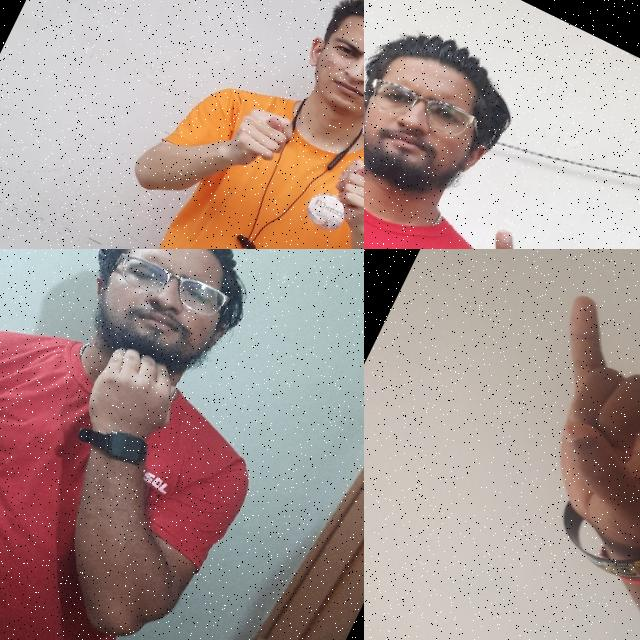Chin Flick: (27, 249, 272, 478)
Corna: (460, 249, 640, 611)
Dulya: (206, 88, 306, 195), (310, 144, 364, 249)
Reversed Victory: (407, 202, 576, 249)
